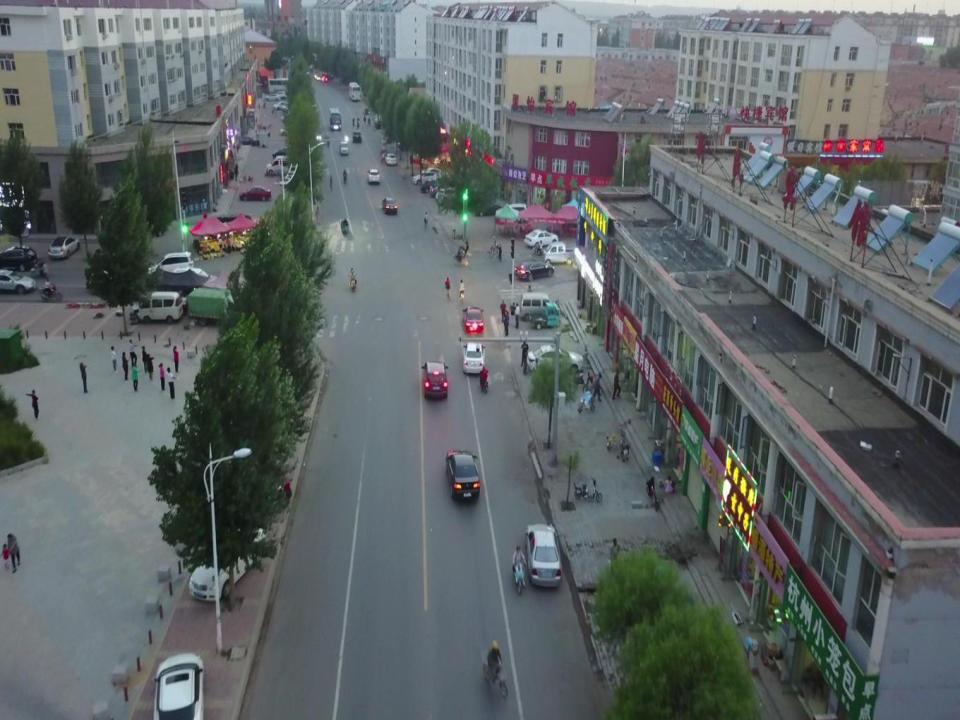bus: (268, 77, 304, 94), (329, 106, 342, 131), (348, 81, 360, 102)
car: (189, 520, 266, 602), (151, 651, 207, 720), (220, 474, 292, 520), (526, 524, 562, 588), (445, 449, 481, 501), (526, 344, 584, 376), (147, 252, 195, 279), (170, 266, 218, 291), (421, 361, 449, 399), (0, 245, 38, 271), (0, 268, 36, 295), (514, 259, 554, 281), (48, 234, 80, 259), (495, 202, 529, 224), (463, 342, 486, 374), (266, 155, 302, 175), (523, 229, 558, 249), (462, 306, 485, 335), (472, 198, 503, 218), (429, 182, 465, 198), (240, 185, 272, 202), (420, 179, 454, 194), (421, 166, 451, 182), (412, 170, 440, 185), (374, 115, 396, 130), (279, 124, 306, 136), (382, 195, 397, 214), (366, 170, 380, 184), (273, 101, 290, 110), (264, 93, 280, 102), (385, 152, 396, 164), (352, 131, 362, 143)
truck: (188, 286, 249, 328), (543, 242, 578, 266)
van: (137, 290, 183, 326), (518, 293, 561, 320), (340, 141, 348, 155)
